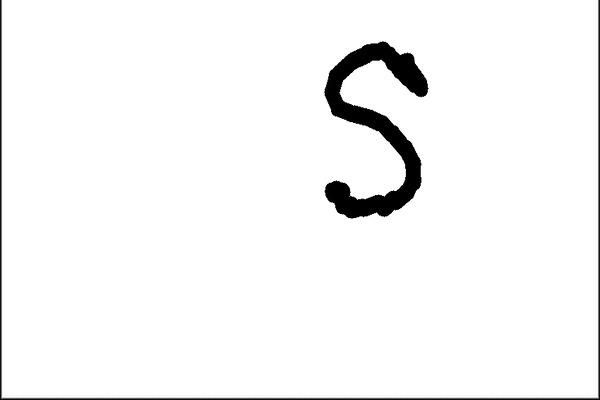S: (308, 33, 432, 223)
